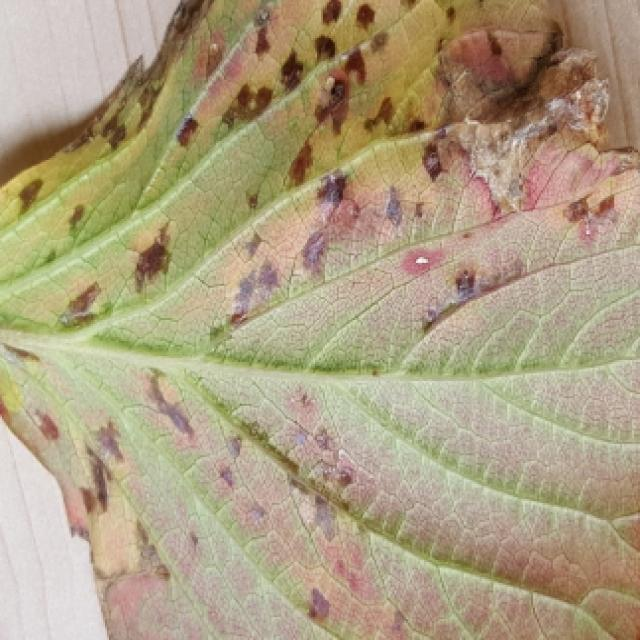Angular Leafspot: (0, 0, 640, 640)
